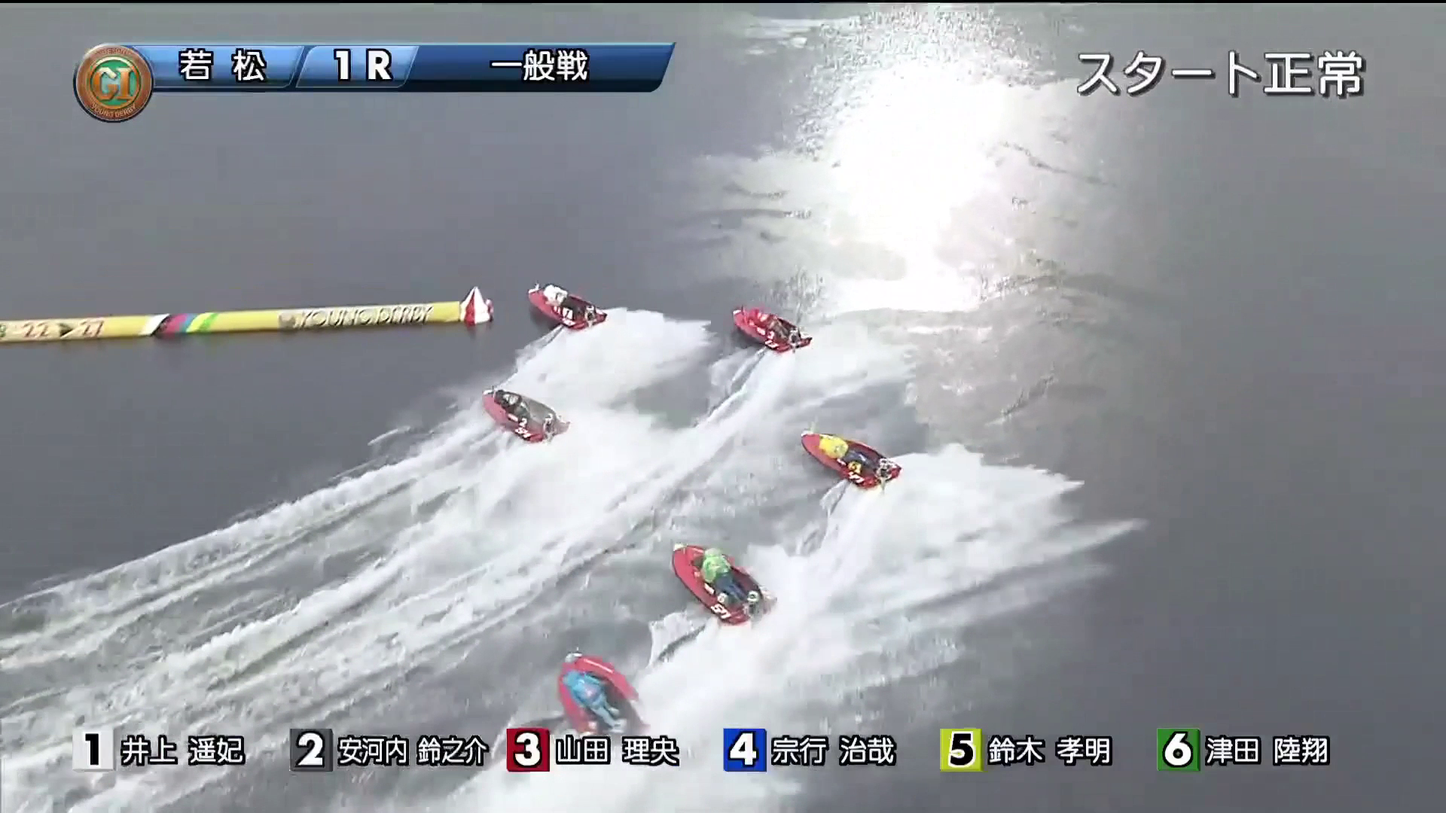１号艇: (518, 283, 588, 337)
２号艇: (458, 377, 586, 437)
３号艇: (718, 300, 816, 346)
４号艇: (686, 535, 820, 601)
５号艇: (542, 670, 665, 725)
６号艇: (797, 422, 896, 482)
